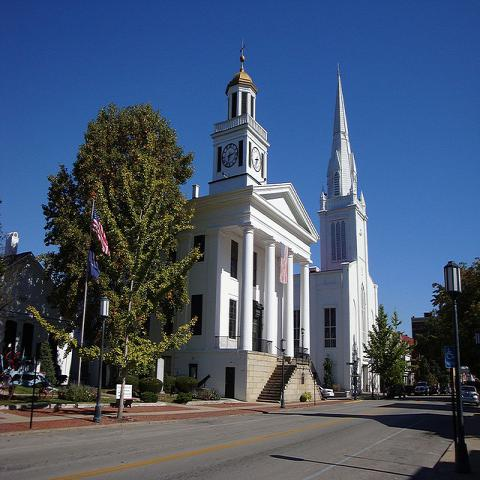car: (9, 370, 52, 387), (385, 382, 407, 400), (461, 386, 479, 403), (414, 378, 431, 395), (430, 382, 447, 396)
